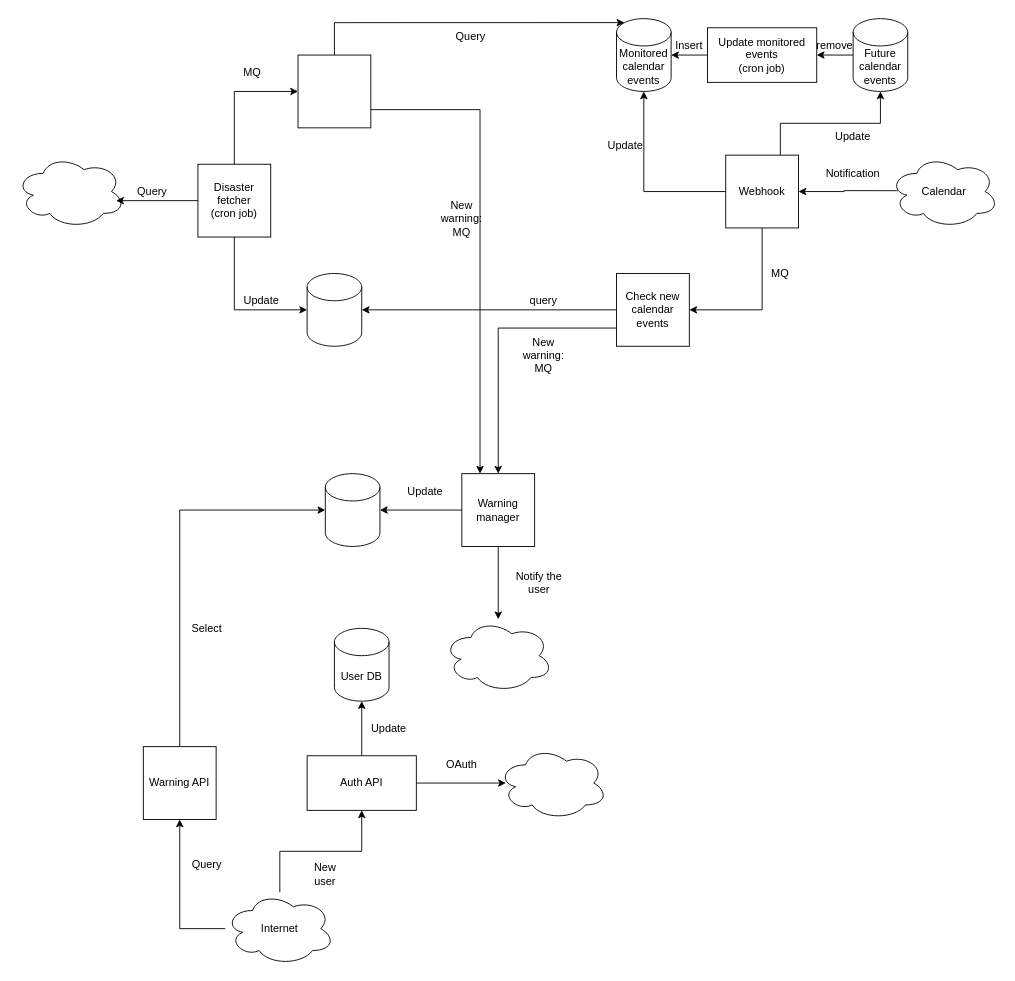
This 1015x981 diagram has some shape labels left out. Each missing label, with the centre of its shape:
Check new DIsasters: (x=334, y=91)
Disaster API: (x=70, y=191)
Disaster DB: (x=334, y=309)
Google API: (x=552, y=782)
User web hook: (x=498, y=655)
Warning DB: (x=352, y=509)
